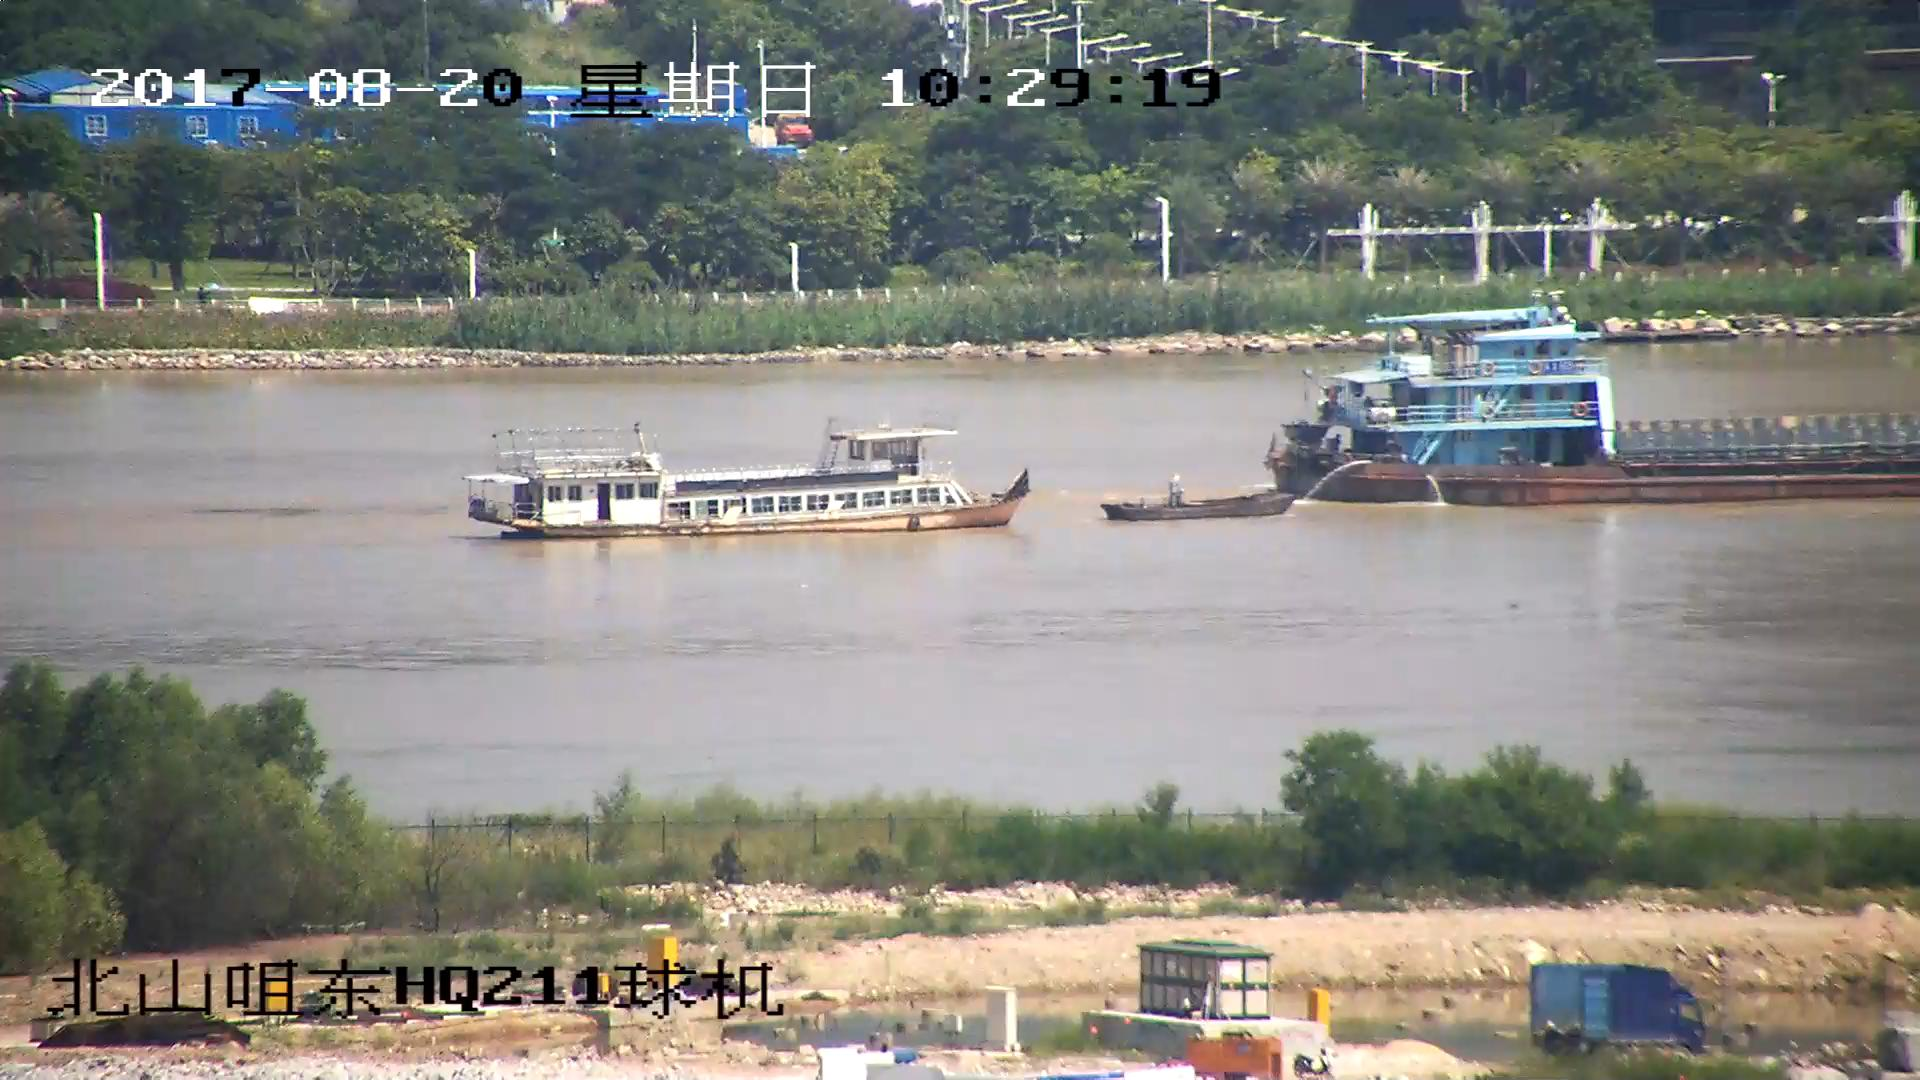fishing boat: (468, 420, 1031, 542), (1101, 469, 1297, 524)
ore carrier: (1265, 301, 1920, 506)
